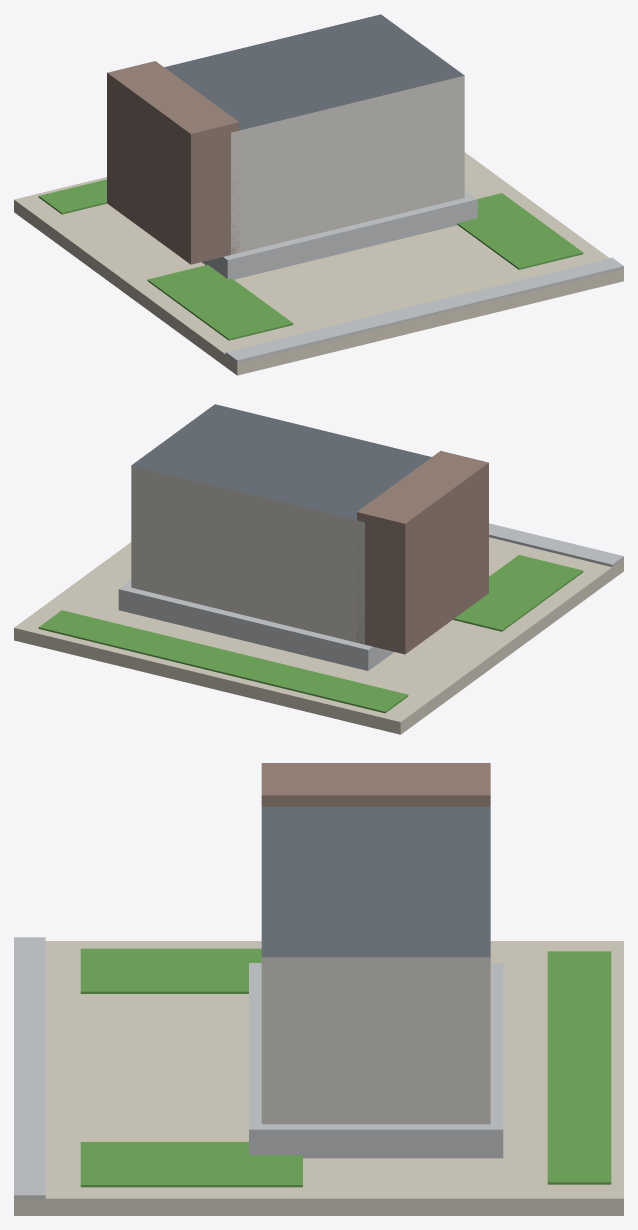
3 views of the same model, one above another, from view 1: azimuth 30°, elevation 25°; view 2: azimuth 150°, elevation 25°; view 3: azimuth 270°, elevation 25° (orthographic). The views are drawn at different scales.
Parts seen in each view (by area): view 1: b26_v2_lod2; view 2: b26_v2_lod2; view 3: b26_v2_lod2.
Part boxes in pixels (x1,y1,x2,y2): b26_v2_lod2: (14, 14, 623, 375); b26_v2_lod2: (14, 404, 623, 734); b26_v2_lod2: (14, 763, 623, 1215).
Size of the model in its own units: 0.96 by 0.39 by 0.96.
